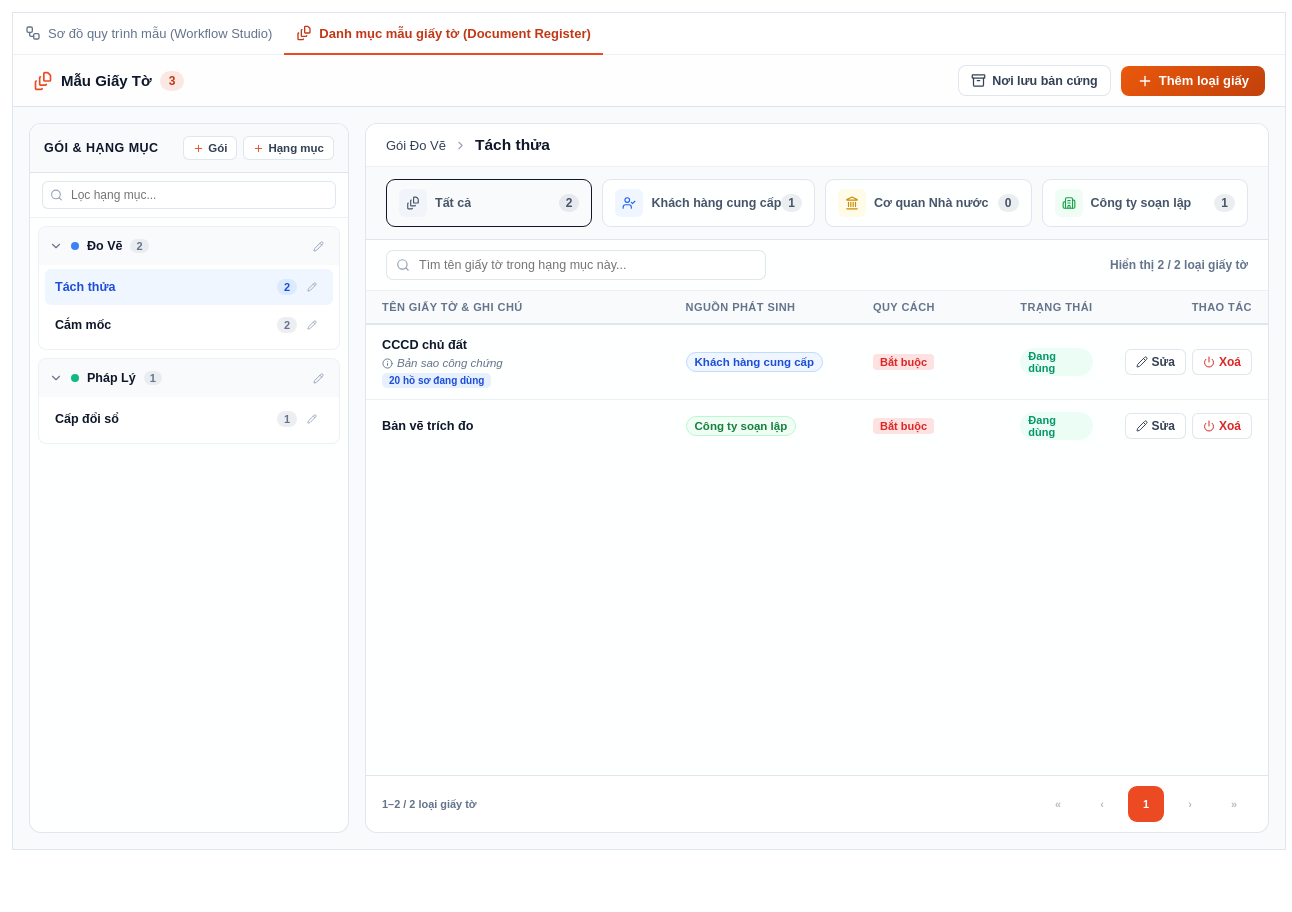
it: DocumentTemplateSettings — Bố cục 2 vùng Enterprise › tìm kiếm theo tên giấy tờ trong workspace
Check: the heading "Tách thửa" is shown, box [475,136,550,154]
Type "CCCD" into the field with placeholder "Tìm tên giấy tờ trong hạng mục này..." at (576, 265), box [386,250,766,280]
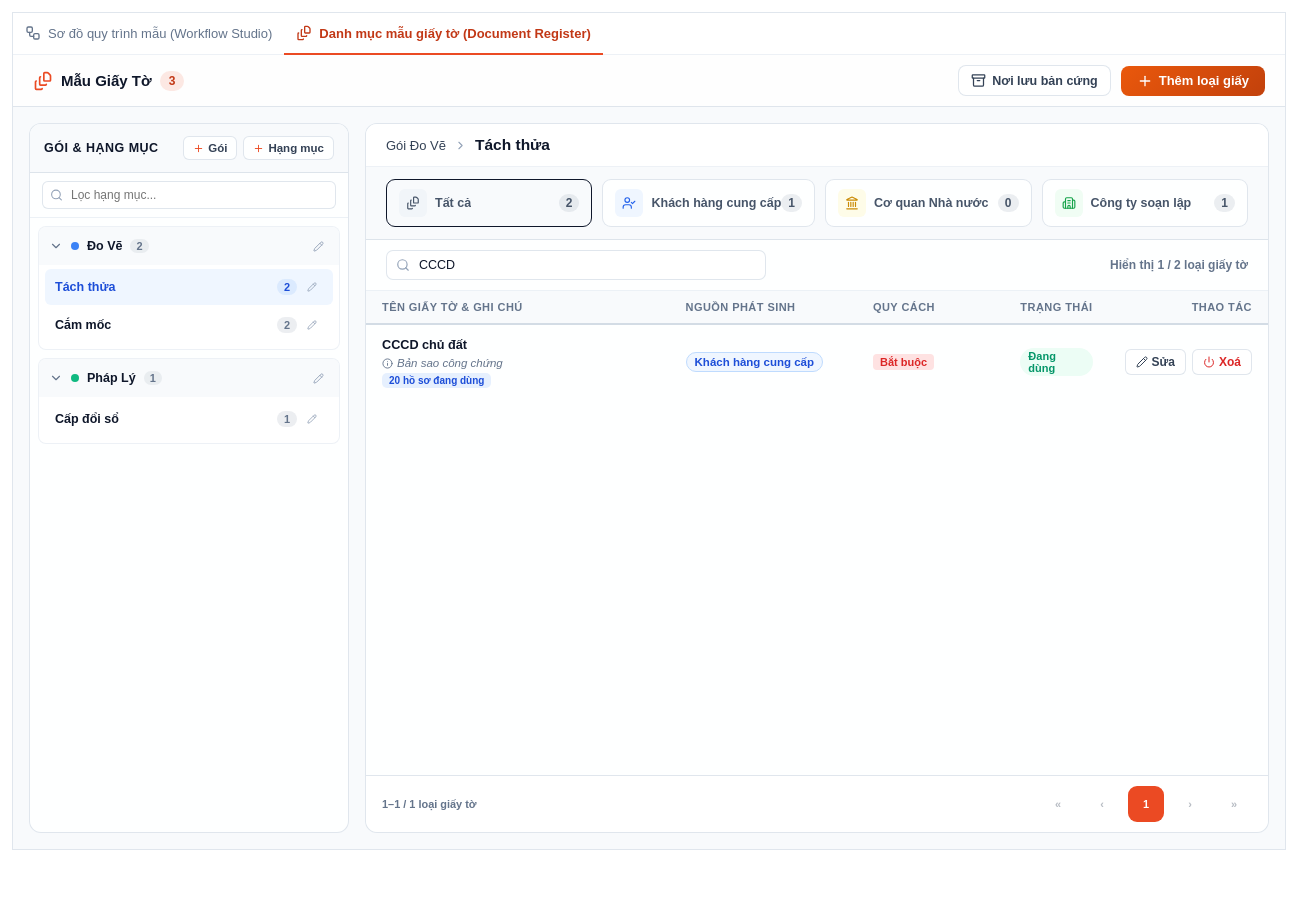
Check: the text "CCCD chủ đất" is shown, box [382,338,467,352]
Check: the text "Bản vẽ trích đo" is gone
Replace the text in the field with placeholder "Tìm tên giấy tờ trong hạng mục này..." with "khong-ton-tai" at (576, 265), box [386,250,766,280]
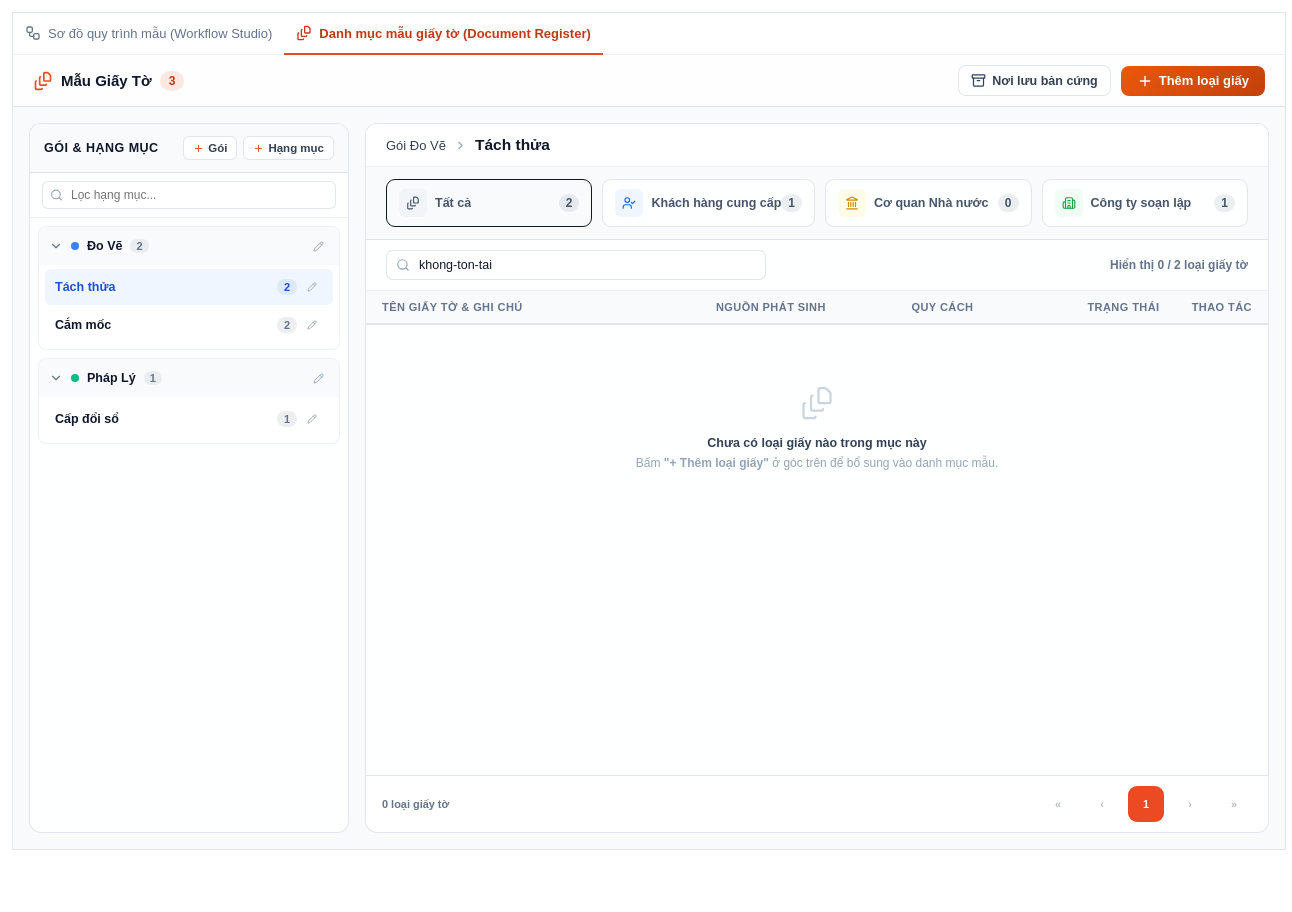
Check: the text "Chưa có loại giấy nào trong mục này" is shown, box [707,436,927,450]
